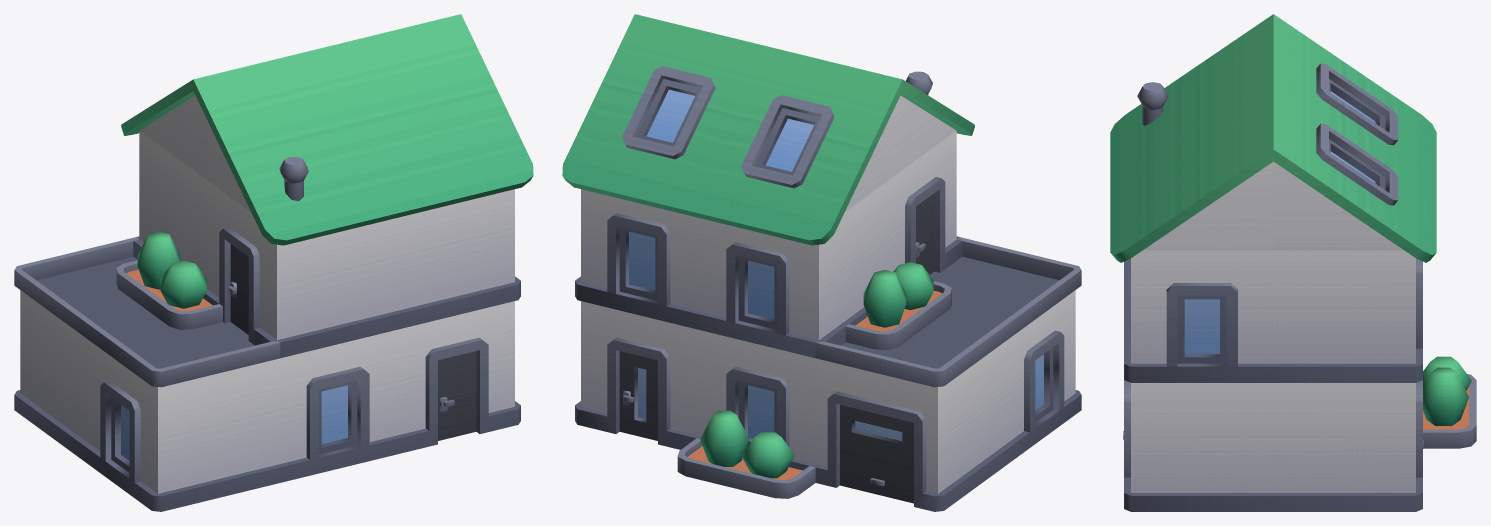
Rendered from building-type-o.glb.
The picture shows the model from 3 angles, left to right: view 1: azimuth 30°, elevation 25°; view 2: azimuth 150°, elevation 25°; view 3: azimuth 270°, elevation 25°; orthographic projection. The views are drawn at different scales.
Parts seen in each view (by area): view 1: building-type-o; view 2: building-type-o; view 3: building-type-o.
Part boxes in pixels (x1,y1,x2,y2): building-type-o: (14,14,533,511); building-type-o: (562,14,1081,511); building-type-o: (1110,14,1476,511).
Bounding box in the file's own units: 1.27 × 1.14 × 1.03.
1 material, 1 textured.
